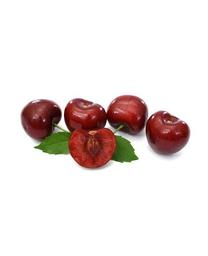cherry: (145, 110, 191, 155), (68, 128, 117, 169), (20, 98, 61, 140), (107, 94, 147, 135), (64, 97, 107, 134)
